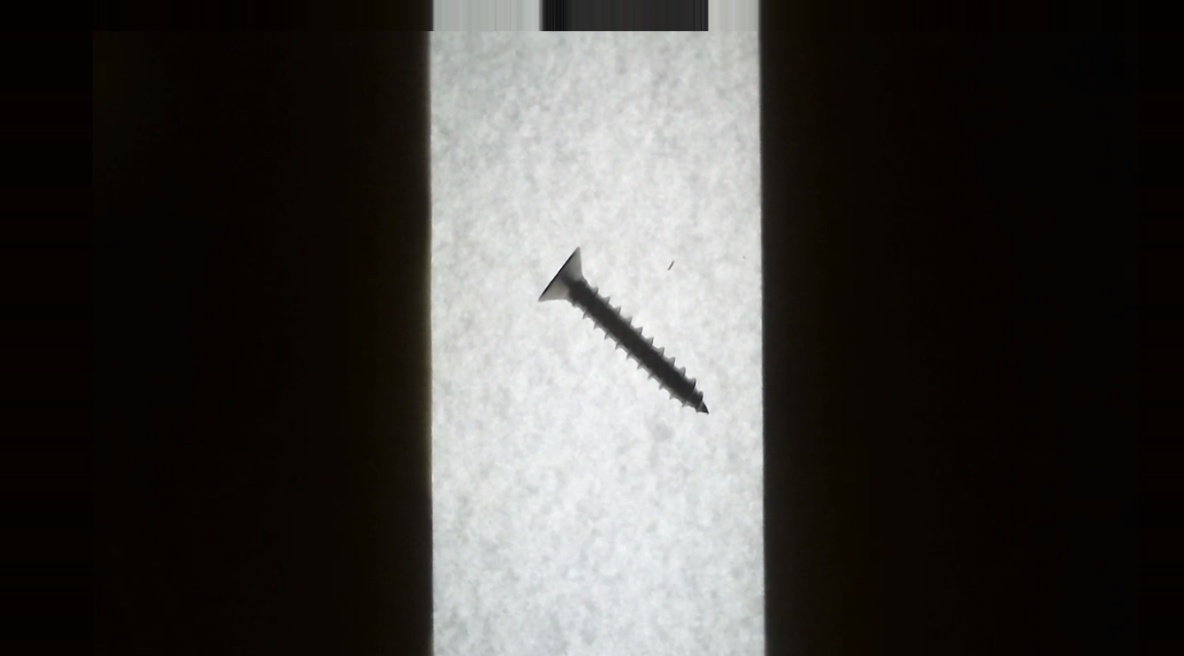S001: (519, 230, 730, 432)
